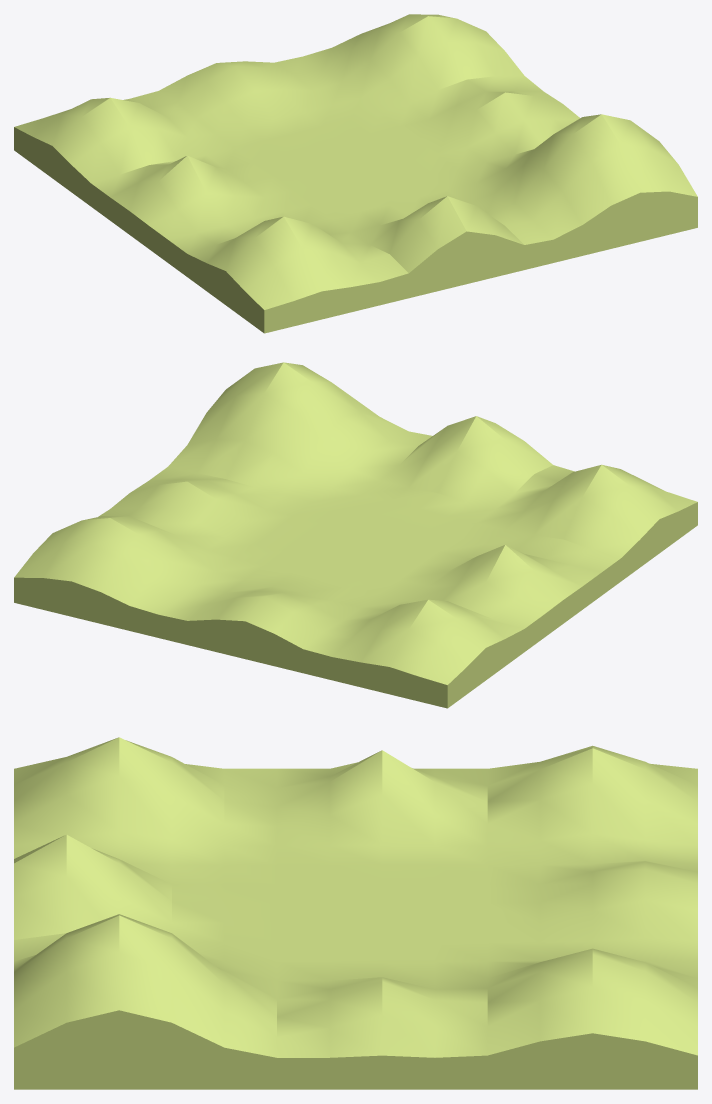
3 renders of one model, top to bottom at view 1: azimuth 30°, elevation 25°; view 2: azimuth 150°, elevation 25°; view 3: azimuth 270°, elevation 25°, orthographic. The views are drawn at different scales.
Visible parts, largest first — view 1: base; view 2: base; view 3: base.
Boxes of the visible parts, <box> form: base: <box>14,14,697,333</box>; base: <box>14,362,697,708</box>; base: <box>14,737,697,1089</box>.
Size of the model in its own units: 8360 by 1831 by 8360.
